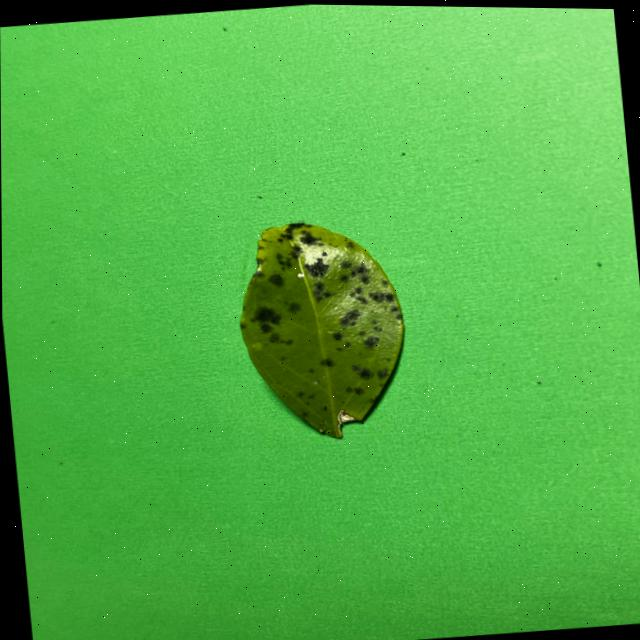sooty_mold: (239, 222, 402, 438)
